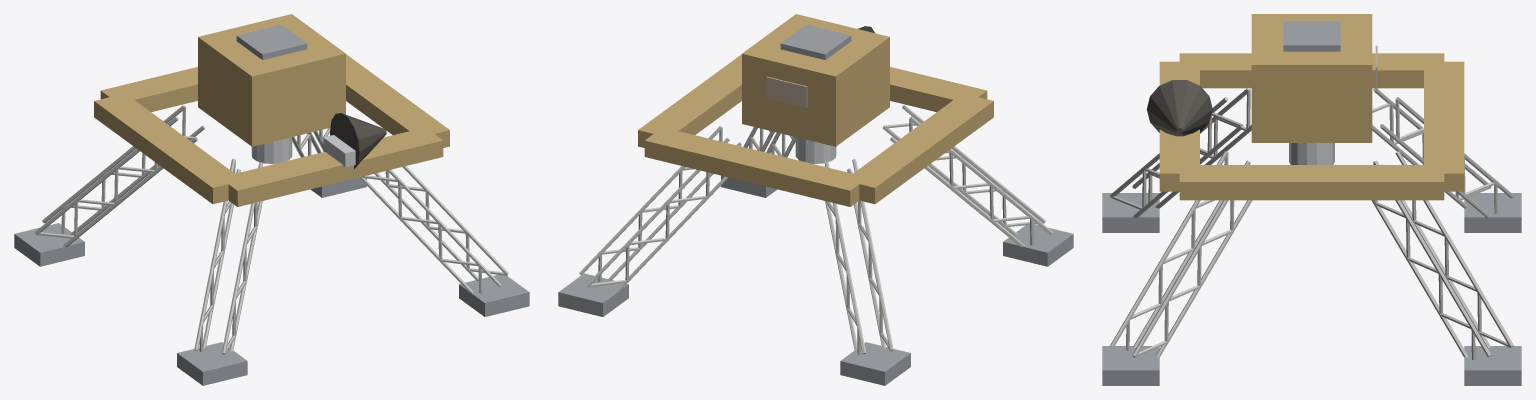
File: place_drill_platform_cold.glb
The picture shows the model from 3 angles, left to right: view 1: azimuth 30°, elevation 25°; view 2: azimuth 150°, elevation 25°; view 3: azimuth 270°, elevation 25°; orthographic projection. The views are drawn at different scales.
Visible parts, largest first — view 1: house, ring1, ring3, ring2, leg1, leg2, leg3, ring0, foot3, foot1, foot2, hatch_dogged (+5 smaller); view 2: house, ring0, ring3, leg0, ring2, leg3, leg2, ring1, foot2, foot3, foot0, hatch_dogged (+4 smaller); view 3: house, ring2, ring0, leg1, leg0, ring3, bit_stowed, ring1, leg3, leg2, foot0, foot1 (+4 smaller).
Part boxes in pixels (<box>): house: <box>198,14,345,146</box>; ring1: <box>220,127,443,206</box>; ring3: <box>94,93,243,204</box>; ring2: <box>346,54,449,147</box>; leg1: <box>359,166,508,293</box>; leg2: <box>35,105,204,247</box>; leg3: <box>194,159,262,354</box>; ring0: <box>100,67,197,112</box>; foot3: <box>177,342,247,385</box>; foot1: <box>459,275,529,316</box>; foot2: <box>14,223,84,266</box>; hatch_dogged: <box>236,24,307,59</box>; house: <box>742,14,889,146</box>; ring0: <box>644,127,867,206</box>; ring3: <box>844,93,993,204</box>; leg0: <box>579,126,741,292</box>; ring2: <box>638,54,741,147</box>; leg3: <box>883,105,1052,247</box>; leg2: <box>825,159,893,354</box>; ring1: <box>890,67,987,112</box>; foot2: <box>840,342,910,385</box>; foot3: <box>1003,224,1073,266</box>; foot0: <box>558,273,628,316</box>; hatch_dogged: <box>780,24,851,59</box>; house: <box>1251,14,1372,142</box>; ring2: <box>1179,165,1444,200</box>; ring0: <box>1424,61,1464,191</box>; leg1: <box>1110,151,1252,357</box>; leg0: <box>1371,151,1513,360</box>; ring3: <box>1179,53,1444,88</box>; bit_stowed: <box>1146,80,1212,136</box>; ring1: <box>1159,61,1199,191</box>; leg3: <box>1110,87,1251,218</box>; leg2: <box>1372,88,1513,218</box>; foot0: <box>1464,346,1521,385</box>; foot1: <box>1102,346,1159,385</box>.
Size of the model in its own units: 14.6 by 10.14 by 14.6.
